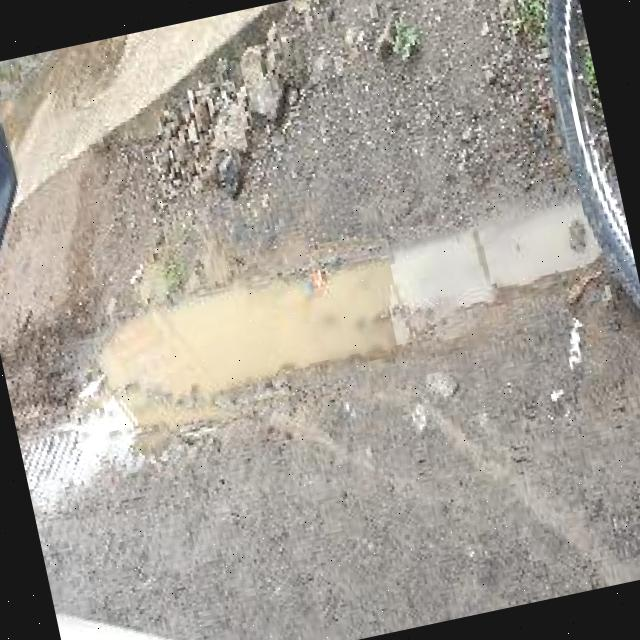stagnation: (45, 172, 606, 463)
